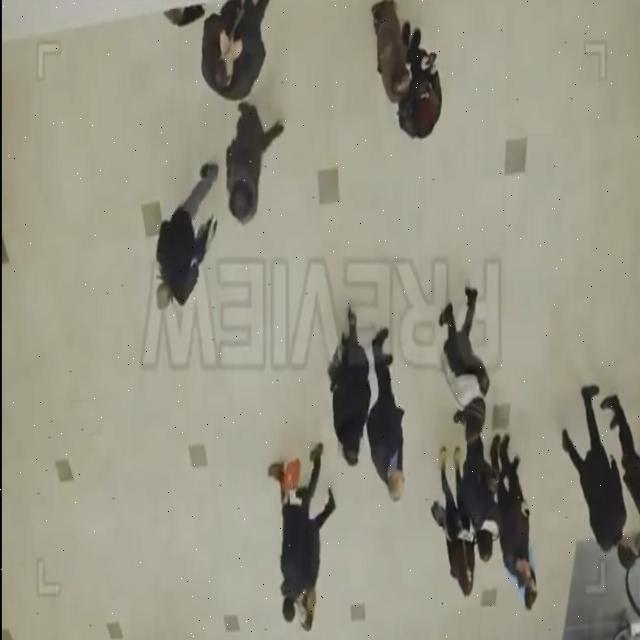humans: (562, 383, 638, 572), (265, 440, 323, 619), (154, 160, 213, 311), (438, 283, 492, 444), (224, 100, 284, 224), (203, 0, 272, 102), (433, 443, 477, 600), (369, 329, 407, 510), (330, 306, 370, 470), (297, 490, 340, 633), (492, 433, 530, 591), (461, 442, 501, 564), (600, 392, 639, 516), (401, 27, 443, 142), (372, 0, 411, 103), (523, 568, 540, 618)
